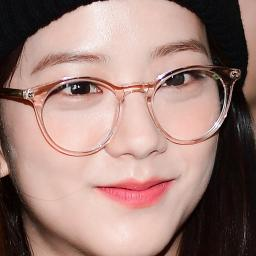face: (33, 20, 213, 254)
